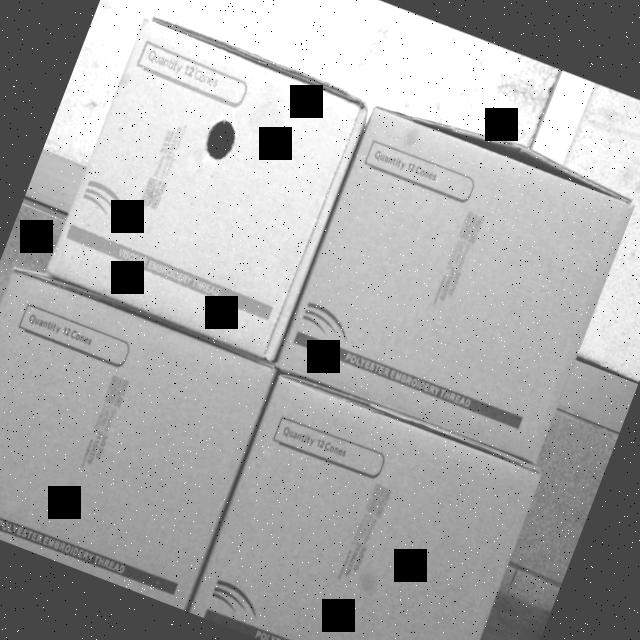box: (276, 104, 640, 470), (44, 10, 374, 360), (0, 271, 273, 609), (189, 381, 543, 640)
